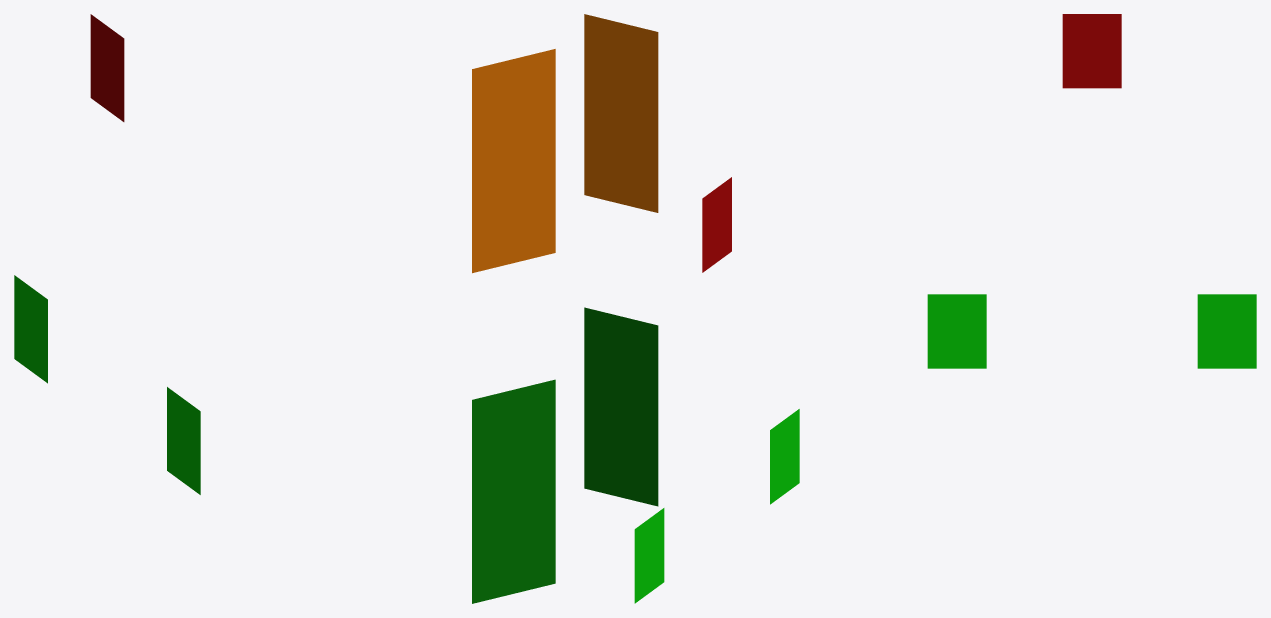
File: FacadeFLOD2.fbx
The picture shows the model from 3 angles, left to right: view 1: azimuth 30°, elevation 25°; view 2: azimuth 150°, elevation 25°; view 3: azimuth 270°, elevation 25°; orthographic projection. The views are drawn at different scales.
Visible parts, largest first — view 1: FacadeFDoorwayA, FacadeFDoorwayB, FacadeFWindowC, FacadeFWindowB, FacadeFWindowA; view 2: FacadeFDoorwayA, FacadeFDoorwayB, FacadeFWindowB, FacadeFWindowC, FacadeFWindowA; view 3: FacadeFWindowB, FacadeFWindowA, FacadeFWindowC.
Part boxes in pixels (<box>): FacadeFDoorwayA: <box>472,379,555,603</box>; FacadeFDoorwayB: <box>472,49,555,273</box>; FacadeFWindowC: <box>90,14,124,121</box>; FacadeFWindowB: <box>14,275,47,383</box>; FacadeFWindowA: <box>167,387,200,494</box>; FacadeFDoorwayA: <box>584,307,658,506</box>; FacadeFDoorwayB: <box>584,14,658,212</box>; FacadeFWindowB: <box>634,508,664,603</box>; FacadeFWindowC: <box>702,177,731,272</box>; FacadeFWindowA: <box>770,409,799,504</box>; FacadeFWindowB: <box>1197,294,1256,368</box>; FacadeFWindowA: <box>927,294,986,368</box>; FacadeFWindowC: <box>1062,14,1121,88</box>.
Size of what is drawn, in the model's own units: 407 by 696 by 571.
